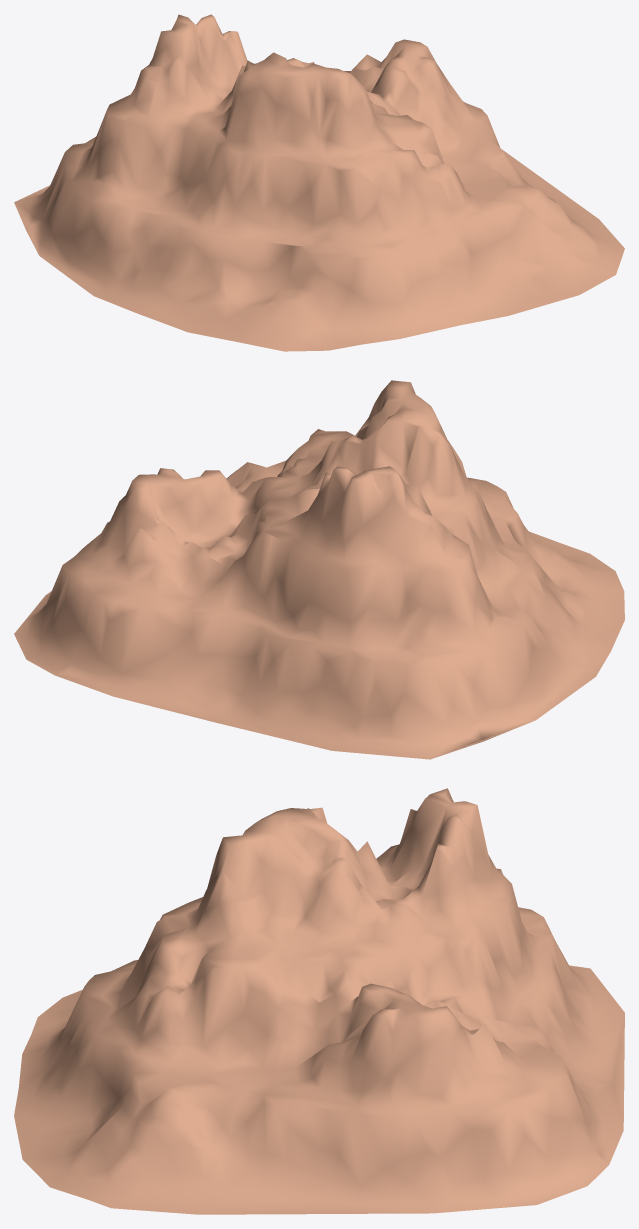
Rendered from Smooth Mountain.fbx.
3 views of the same model, one above another, from view 1: azimuth 30°, elevation 25°; view 2: azimuth 150°, elevation 25°; view 3: azimuth 270°, elevation 25° (orthographic). The views are drawn at different scales.
Visible parts, largest first — view 1: MT_Mountain_L_b_26; view 2: MT_Mountain_L_b_26; view 3: MT_Mountain_L_b_26.
Part boxes in pixels (x1=…): MT_Mountain_L_b_26: x1=14, y1=14, x2=624, y2=351; MT_Mountain_L_b_26: x1=14, y1=380, x2=624, y2=759; MT_Mountain_L_b_26: x1=14, y1=788, x2=624, y2=1214.
Size of the model in its own units: 9280 by 3864 by 8956.
